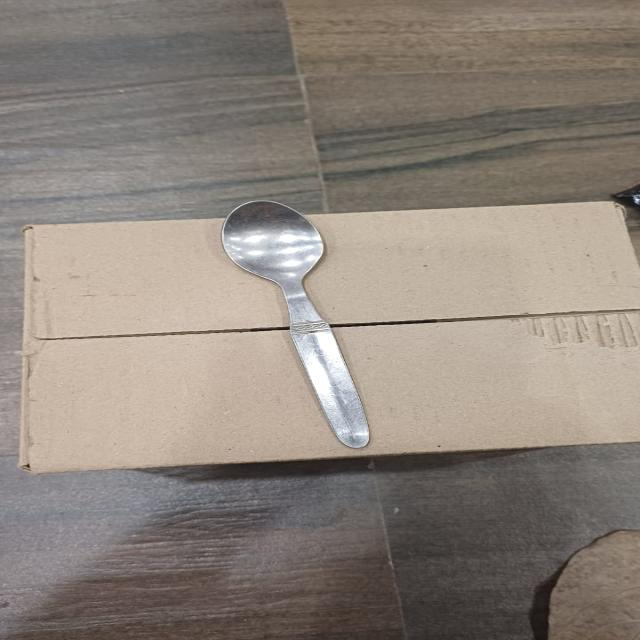CardBoard-Bio: (2, 196, 640, 473)
Steel-NonBio: (198, 198, 414, 450)
